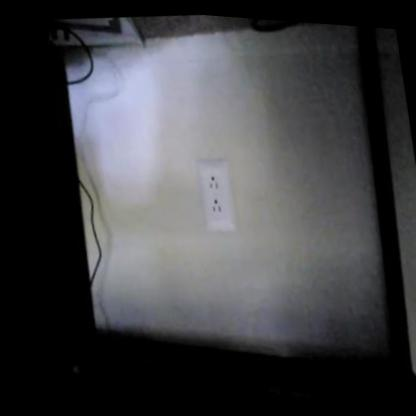OUTLET: (194, 158, 237, 233)
